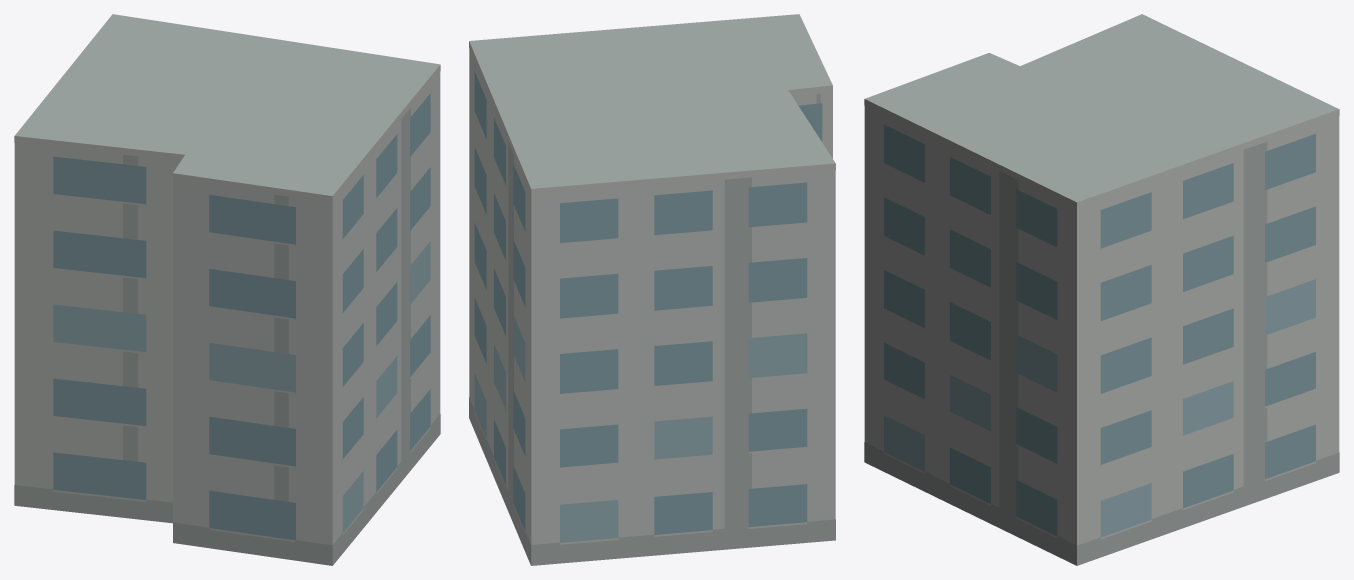
File: survey-upis-32735182.glb
3 views of the same model, side by side, from view 1: azimuth 30°, elevation 25°; view 2: azimuth 150°, elevation 25°; view 3: azimuth 270°, elevation 25° (orthographic). The views are drawn at different scales.
Parts seen in each view (by area): view 1: survey-upis-32735182.tmp; view 2: survey-upis-32735182.tmp; view 3: survey-upis-32735182.tmp.
Part boxes in pixels (x1,y1,x2,y2): survey-upis-32735182.tmp: [14, 14, 440, 565]; survey-upis-32735182.tmp: [469, 14, 835, 565]; survey-upis-32735182.tmp: [864, 14, 1339, 565].
Bounding box in the file's own units: 14.79 × 13.3 × 15.76.
